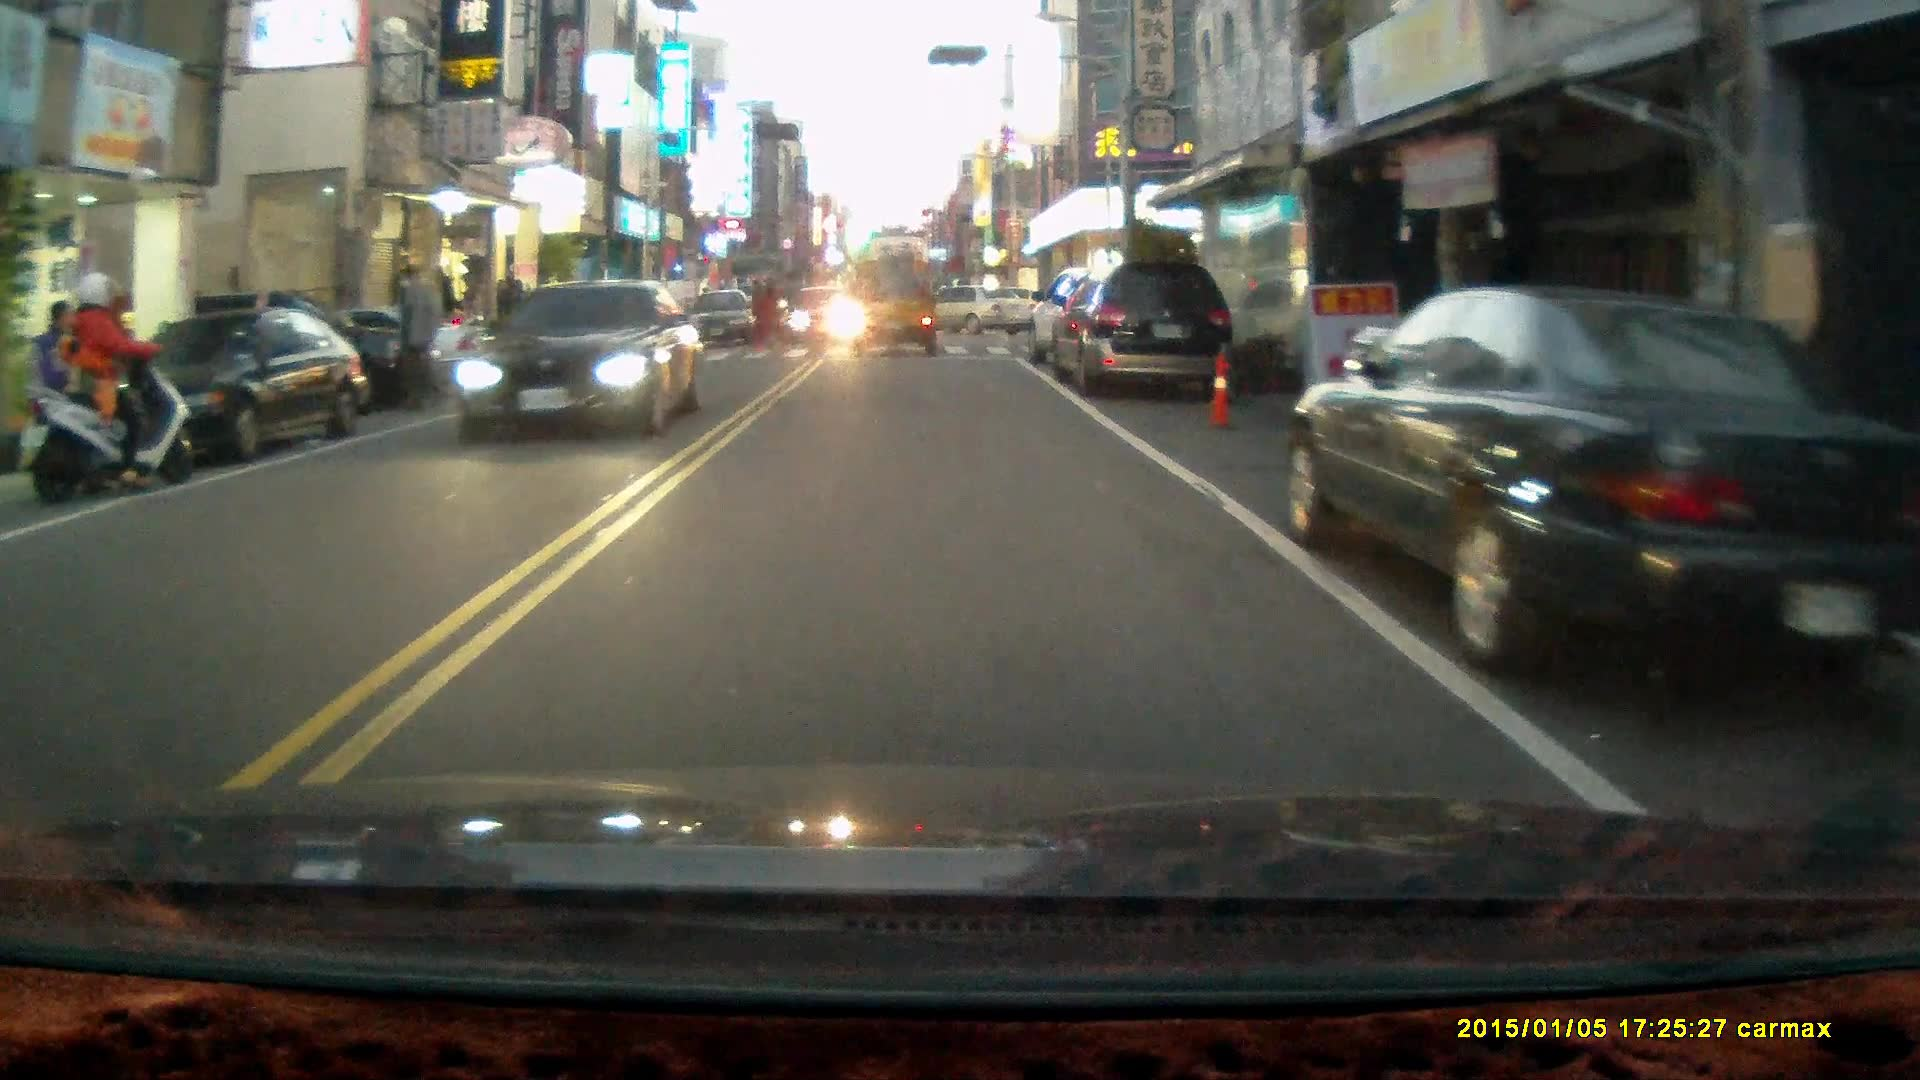pedestrian: (391, 264, 440, 415)
rider: (25, 270, 197, 507)
vehicle: (1288, 281, 1897, 696), (454, 279, 707, 443), (113, 310, 364, 472), (1044, 258, 1236, 398), (852, 259, 940, 356), (898, 284, 1037, 341), (690, 288, 759, 345)
